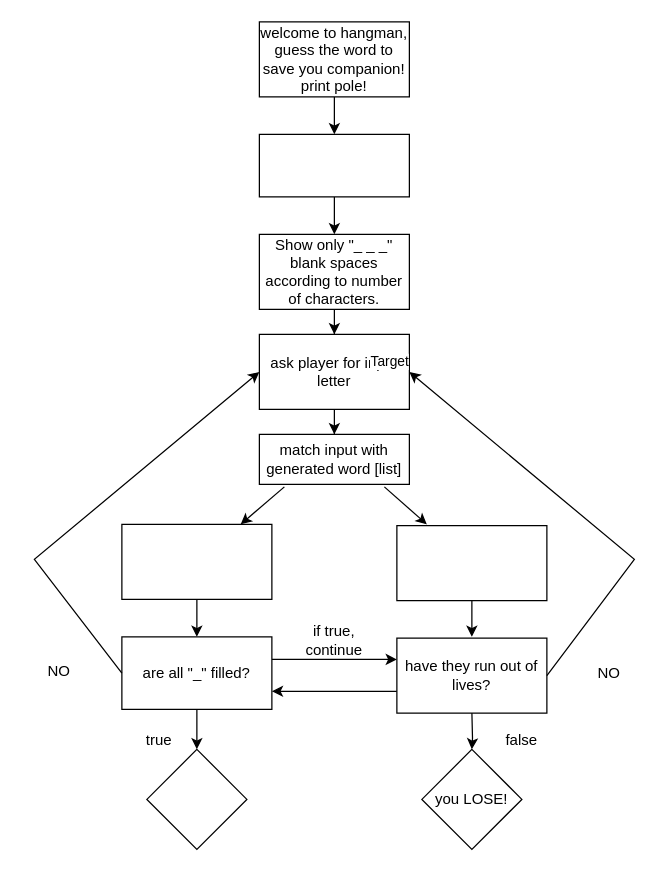
This 668x871 diagram has some shape labels left out. Here are the shapes that lost their labels. From the top down, the box of each, then its label:
(258, 133, 409, 197): generate random word
(121, 523, 272, 599): if true, replace "_" with letter
(396, 524, 547, 601): if false, lose a life
(146, 748, 247, 849): you WIN!
